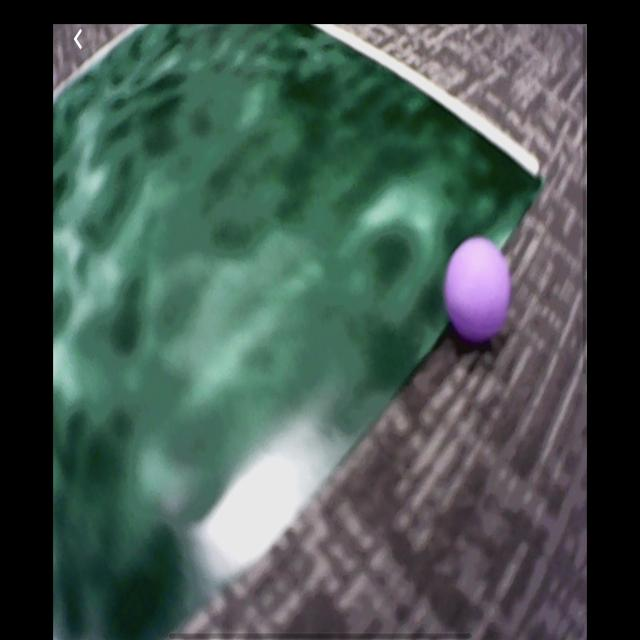ball: (445, 238, 512, 341)
